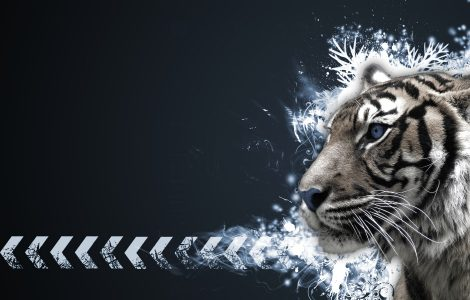Tigrew: (269, 43, 466, 276)
